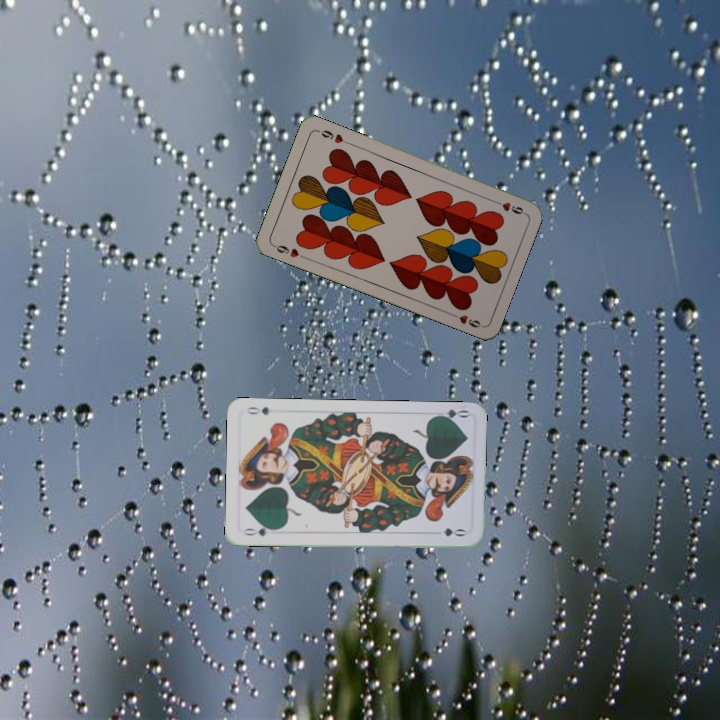GO: (430, 405, 471, 424), (240, 522, 280, 539)
H9: (269, 240, 308, 261), (489, 196, 528, 217)
